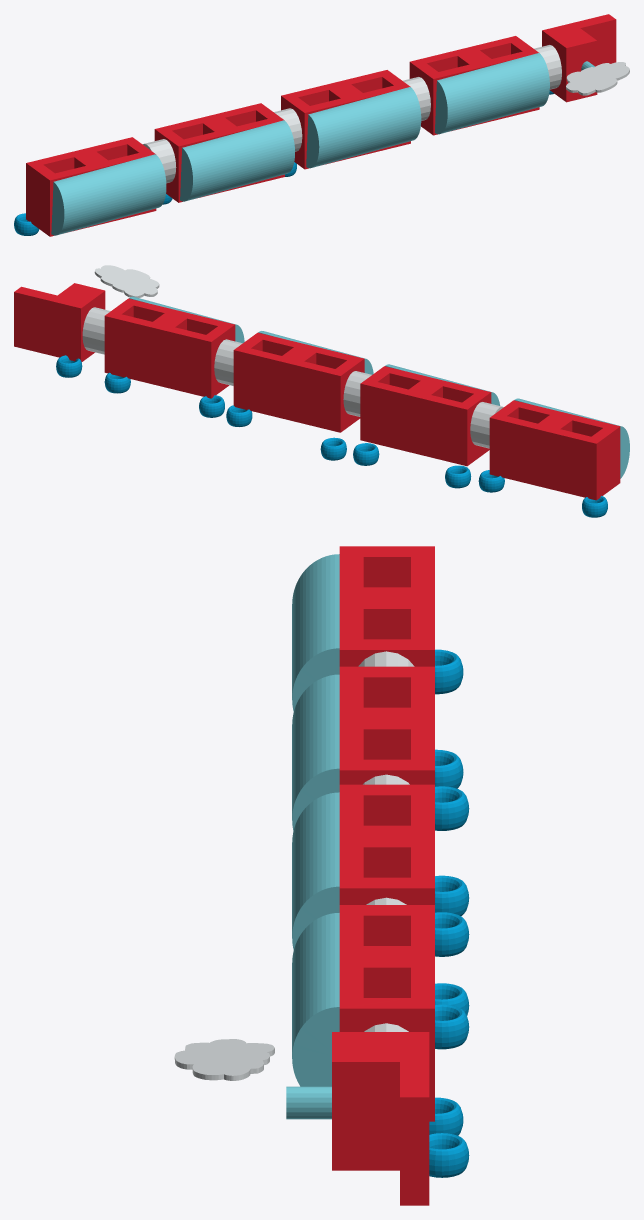
The model's file is tinker.obj.
3 views of the same model, one above another, from view 1: azimuth 30°, elevation 25°; view 2: azimuth 150°, elevation 25°; view 3: azimuth 270°, elevation 25° (orthographic). The views are drawn at different scales.
Parts seen in each view (by area): view 1: group_0_7720667, group_0_15277357, group_0_14541540, group_0_40919; view 2: group_0_15277357, group_0_14541540, group_0_40919, group_0_7720667; view 3: group_0_15277357, group_0_7720667, group_0_40919, group_0_14541540.
Part boxes in pixels (x1=…): group_0_7720667: x1=51, y1=53, x2=594, y2=235; group_0_15277357: x1=26, y1=14, x2=616, y2=236; group_0_14541540: x1=143, y1=45, x2=629, y2=183; group_0_40919: x1=14, y1=90, x2=554, y2=235; group_0_15277357: x1=14, y1=283, x2=620, y2=500; group_0_14541540: x1=82, y1=265, x2=503, y2=448; group_0_40919: x1=56, y1=355, x2=607, y2=517; group_0_7720667: x1=129, y1=296, x2=629, y2=478; group_0_15277357: x1=332, y1=546, x2=434, y2=1205; group_0_7720667: x1=286, y1=554, x2=339, y2=1119; group_0_40919: x1=429, y1=649, x2=469, y2=1177; group_0_14541540: x1=174, y1=651, x2=414, y2=1080.
Size of the model in its own units: 239 by 32 by 51.54.
